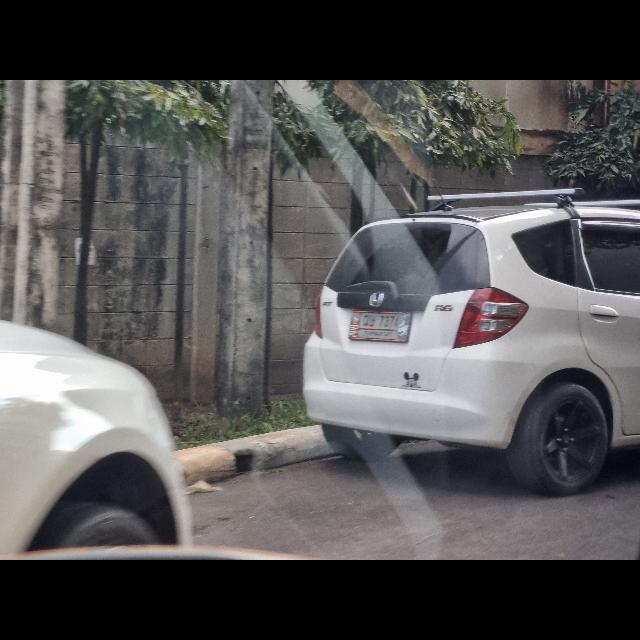licenseplate: (350, 308, 414, 344)
